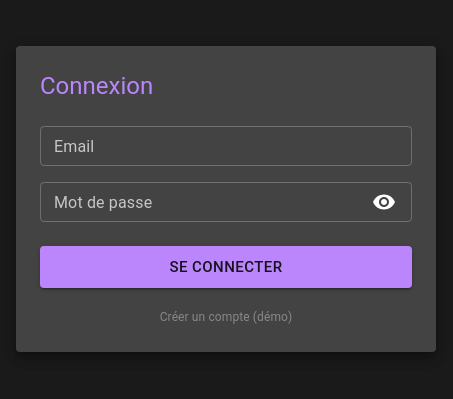
it: Login › affiche l'étape MFA après une réponse mfaRequired
Type "a@b.com" into the field labelled "Email" at (226, 146), box [40,126,412,166]
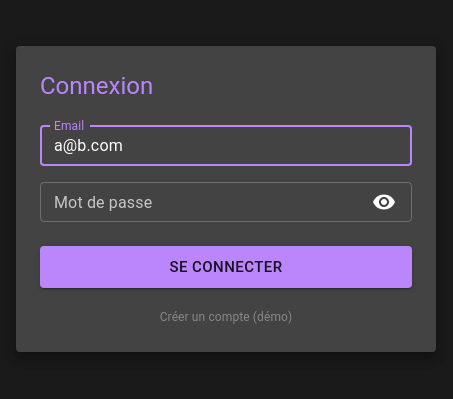
Type "pass" into the password field labelled "Mot de passe" at (200, 202), box [40,182,359,222]
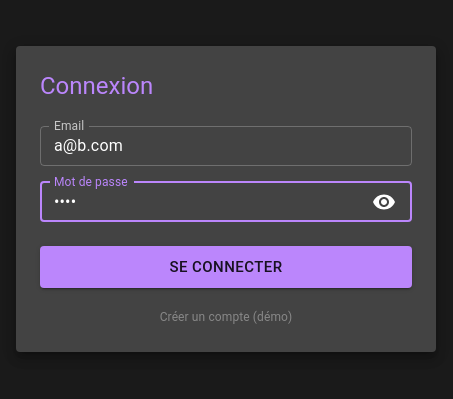
Click the button "Se connecter" at (226, 267), box [40,246,412,288]
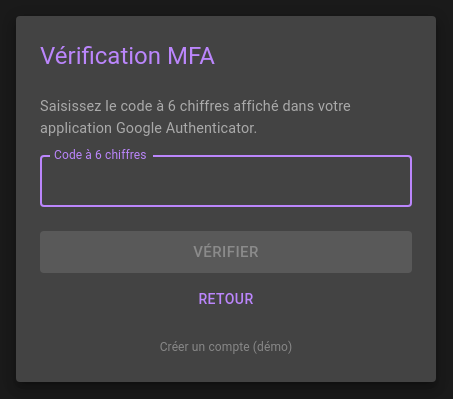
Result: the heading "Vérification MFA" is shown at [40,42,215,70]
